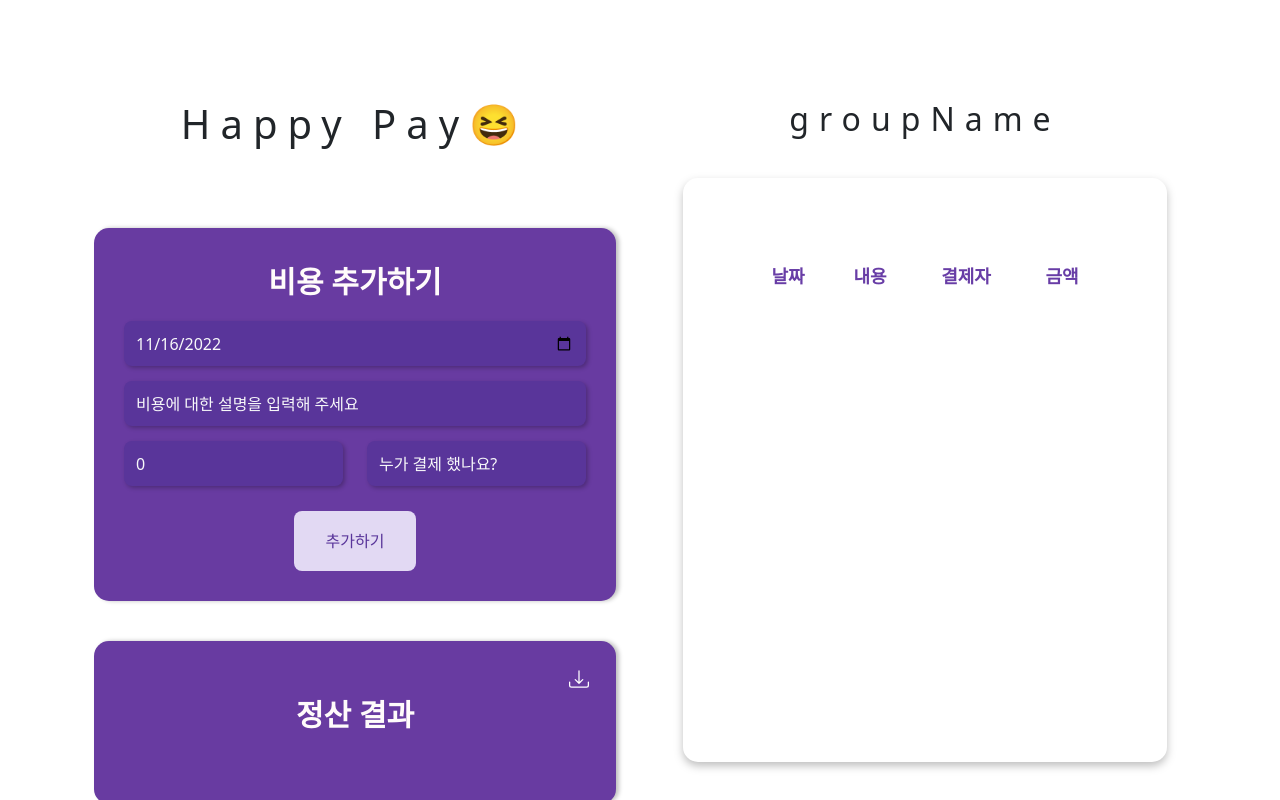
Test: 비용 정산 메인페이지 › 비용 리스트 컴포넌트 › 새로운 비용이 입력 되었을 때 › 정산 결과 또한 업데이트 된다
In the date field with placeholder "결제한 날짜를 선택해 주세요": (355, 344) top-left (124, 321), bottom-right (586, 366), type "2022-11-14"
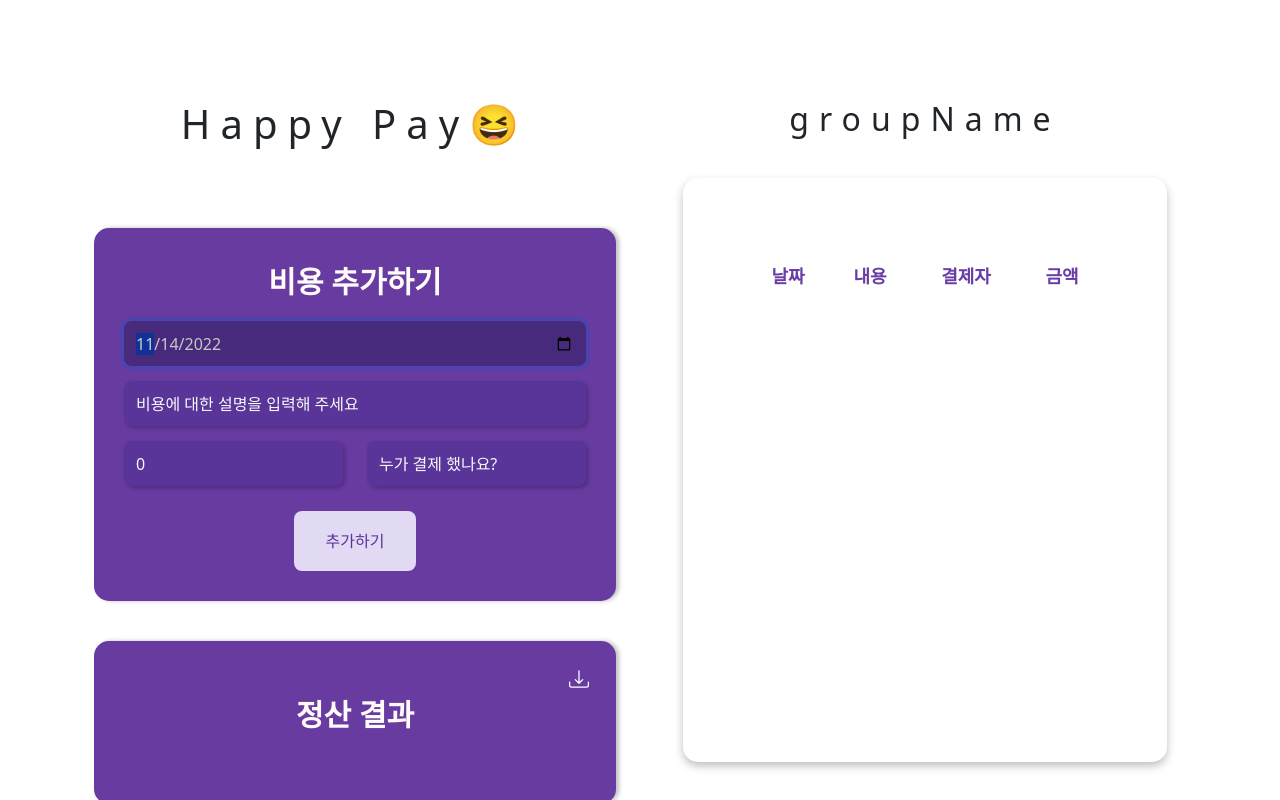
In the field with placeholder "비용에 대한 설명을 입력해 주세요": (355, 404) top-left (124, 381), bottom-right (586, 426), type "장보기"
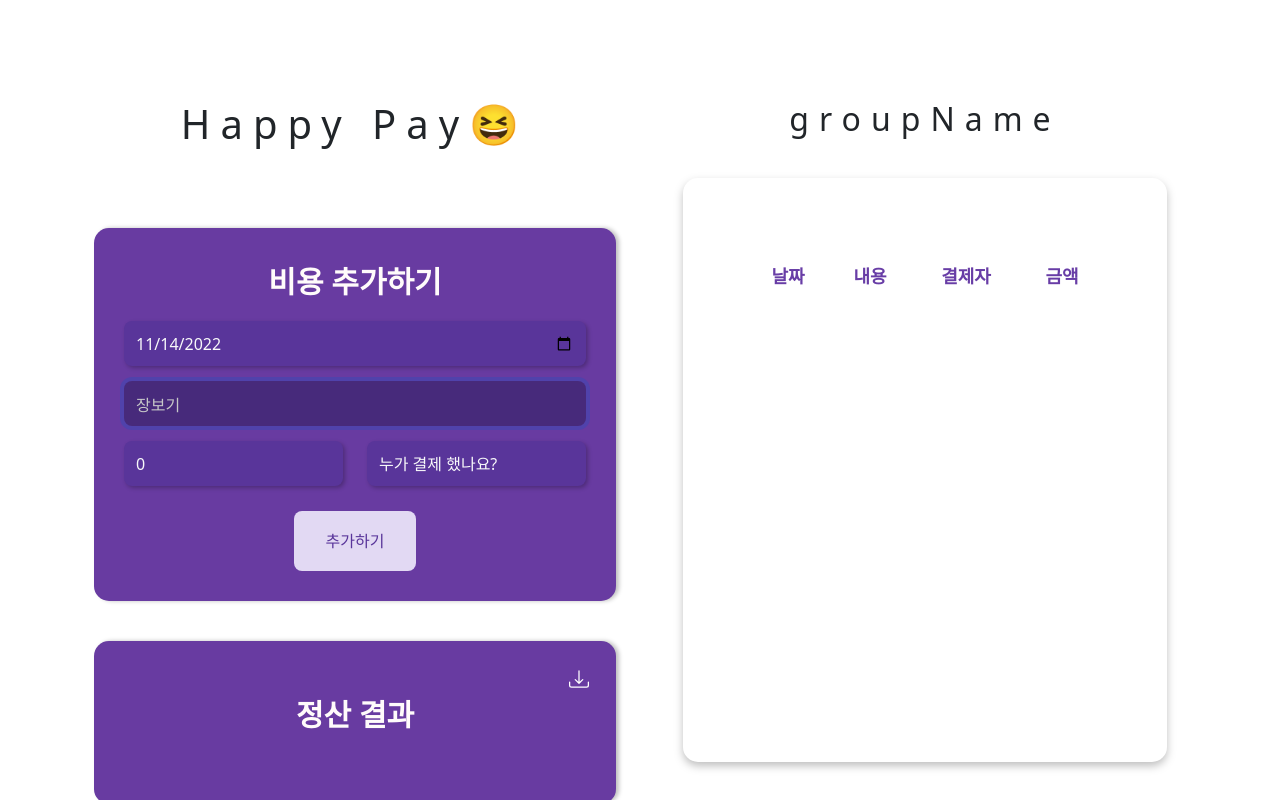
In the number field with placeholder "비용은 얼마인가요?": (234, 464) top-left (124, 441), bottom-right (343, 486), type "30000"
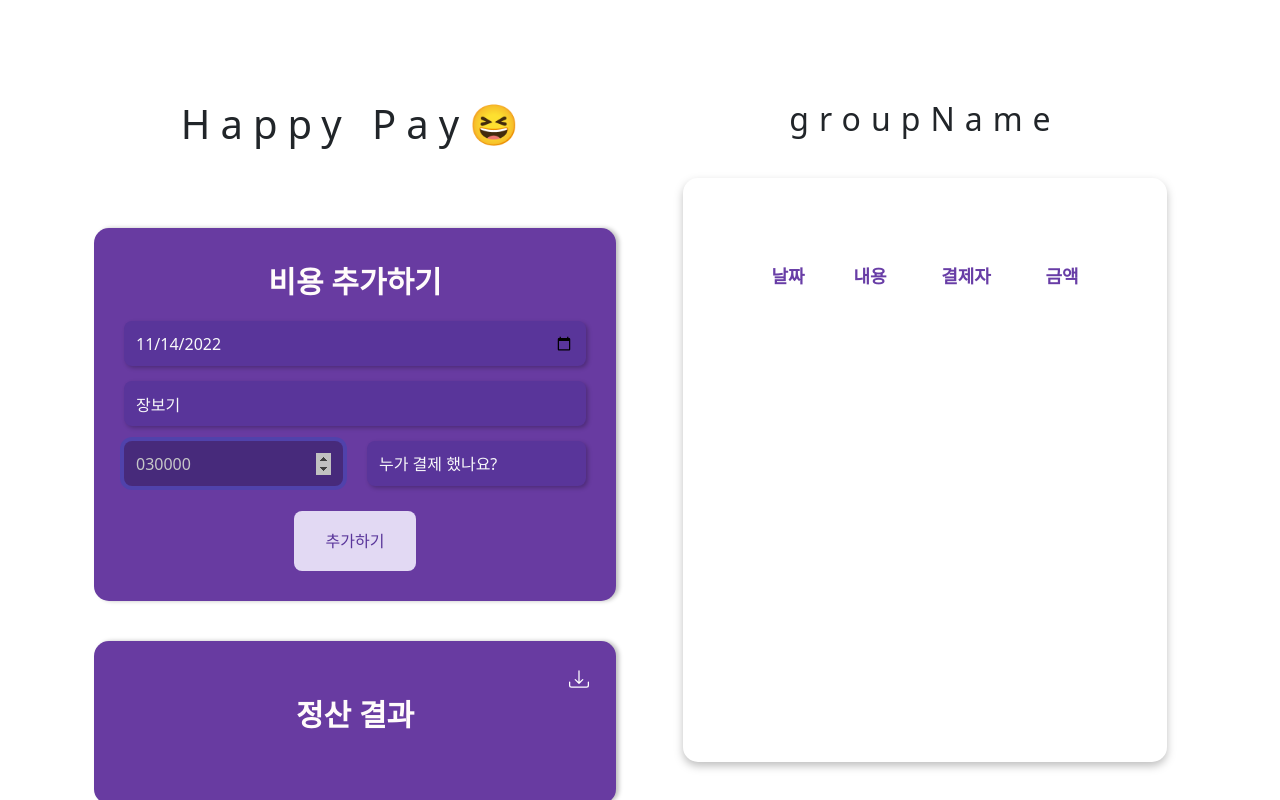
Select "영수" in the dropdown showing "누가 결제": (476, 464) top-left (367, 441), bottom-right (586, 486)
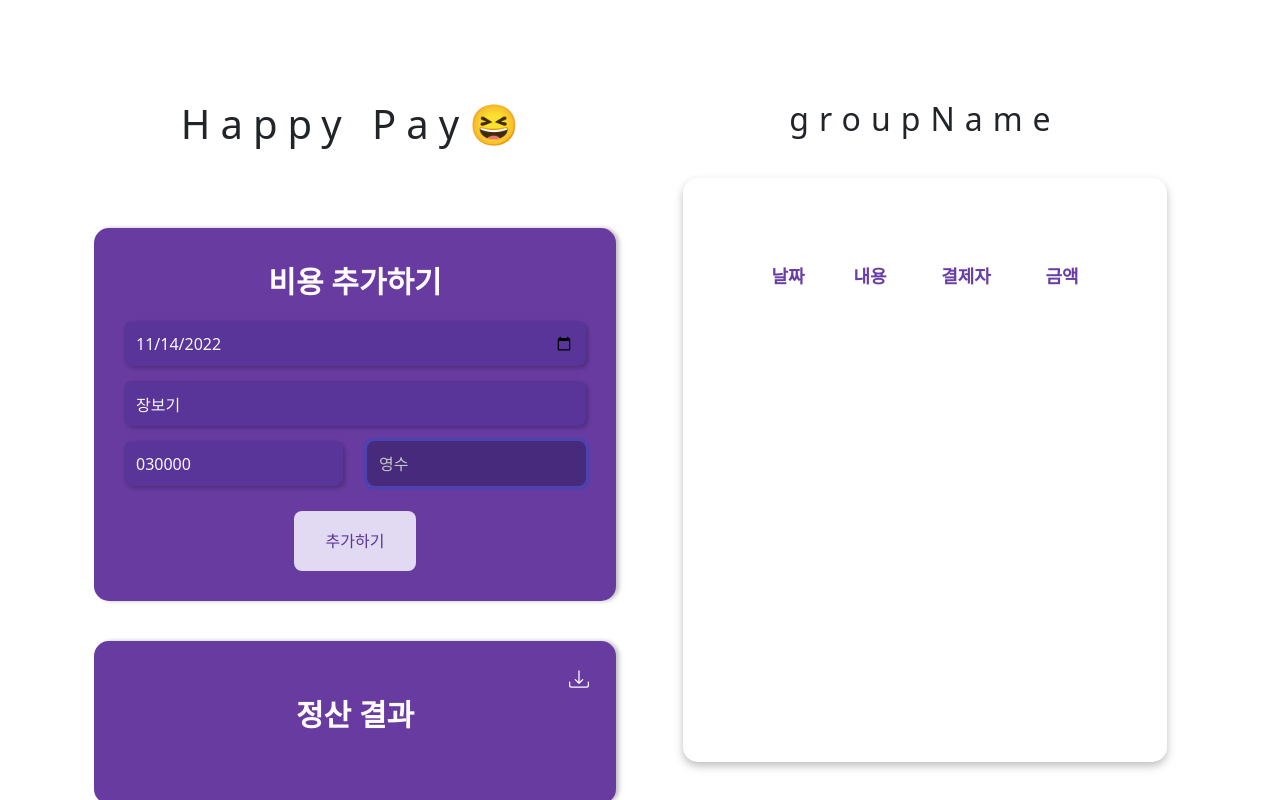
Click the button "추가하기": (355, 541) top-left (294, 511), bottom-right (416, 571)
(page scrolled)
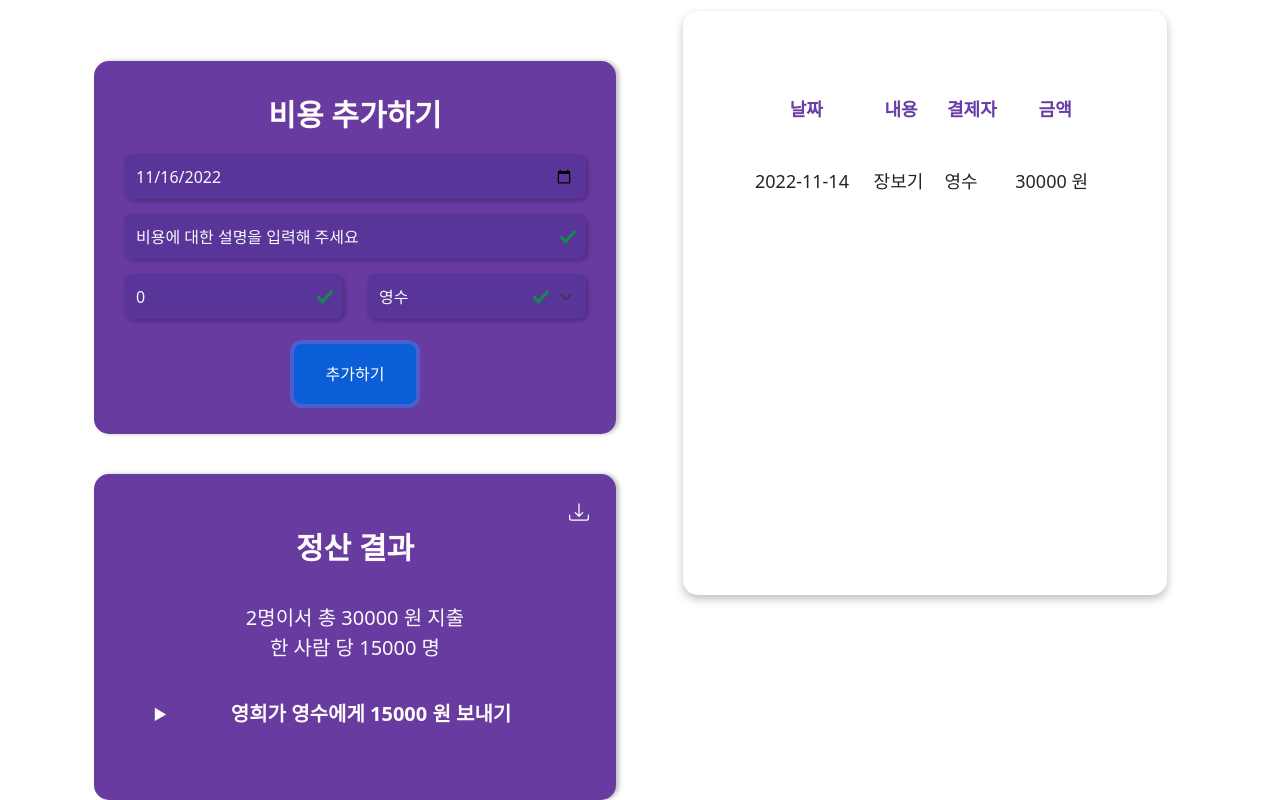
Expected: the text "2명이서 총 30000 원 지출" is shown, top-left (246, 604), bottom-right (464, 631)
Expected: the text "보내기" is shown, top-left (427, 700), bottom-right (511, 727)
